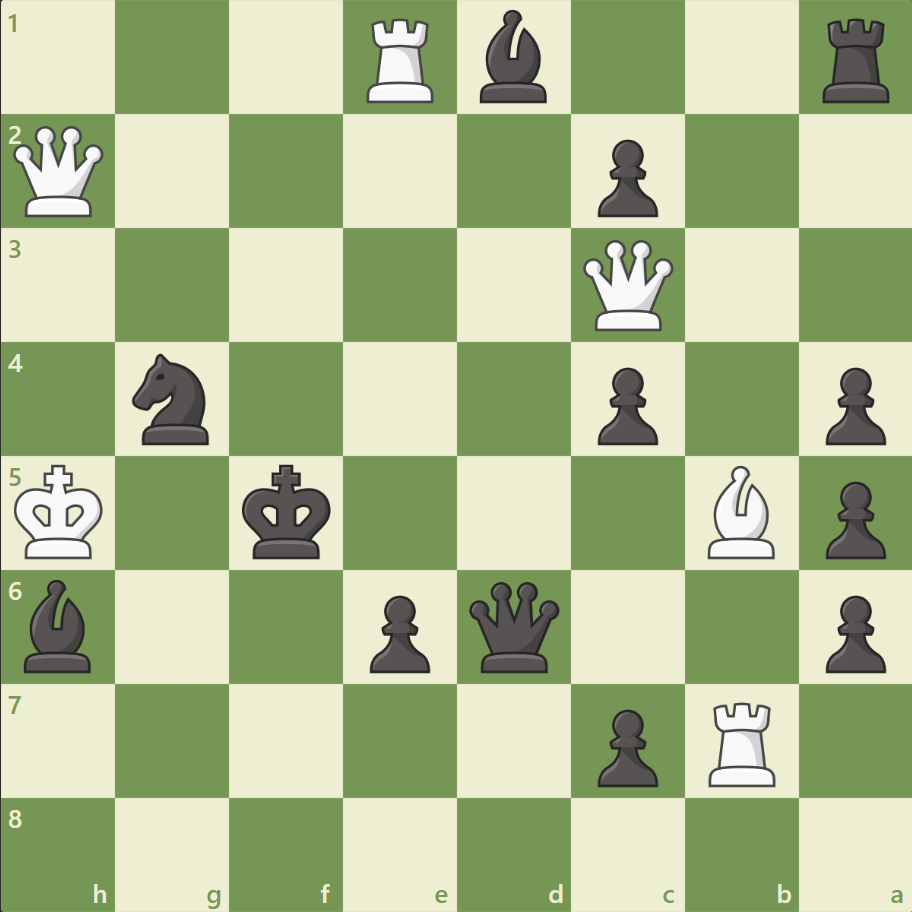B: (698, 460, 782, 563)
K: (11, 458, 111, 566)
Q: (10, 122, 109, 222), (578, 236, 677, 335)
R: (700, 693, 783, 790), (360, 12, 442, 109)
b: (471, 6, 555, 109), (17, 574, 101, 676)
k: (238, 458, 338, 566)
n: (124, 348, 222, 450)
p: (588, 700, 662, 791), (815, 586, 889, 677), (361, 586, 435, 677), (815, 473, 889, 564), (815, 359, 889, 450), (588, 359, 662, 450), (588, 132, 662, 223)
q: (464, 576, 563, 676)
r: (814, 12, 897, 109)
